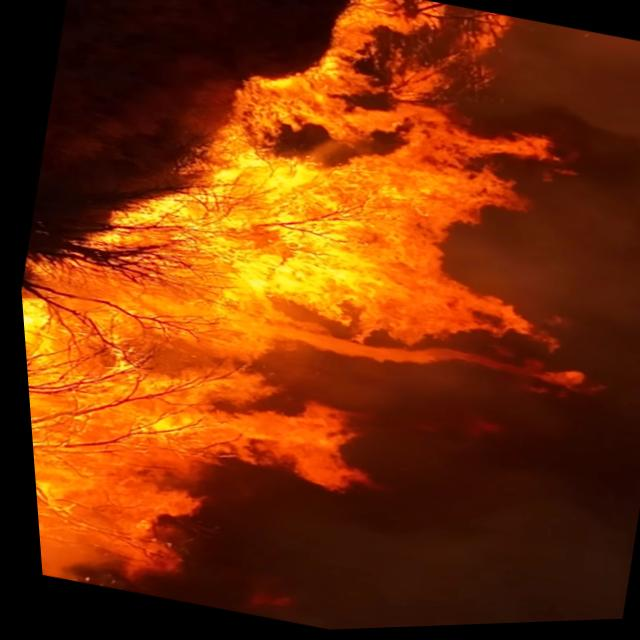fire: (168, 41, 613, 437), (15, 245, 370, 635), (28, 486, 141, 595)
